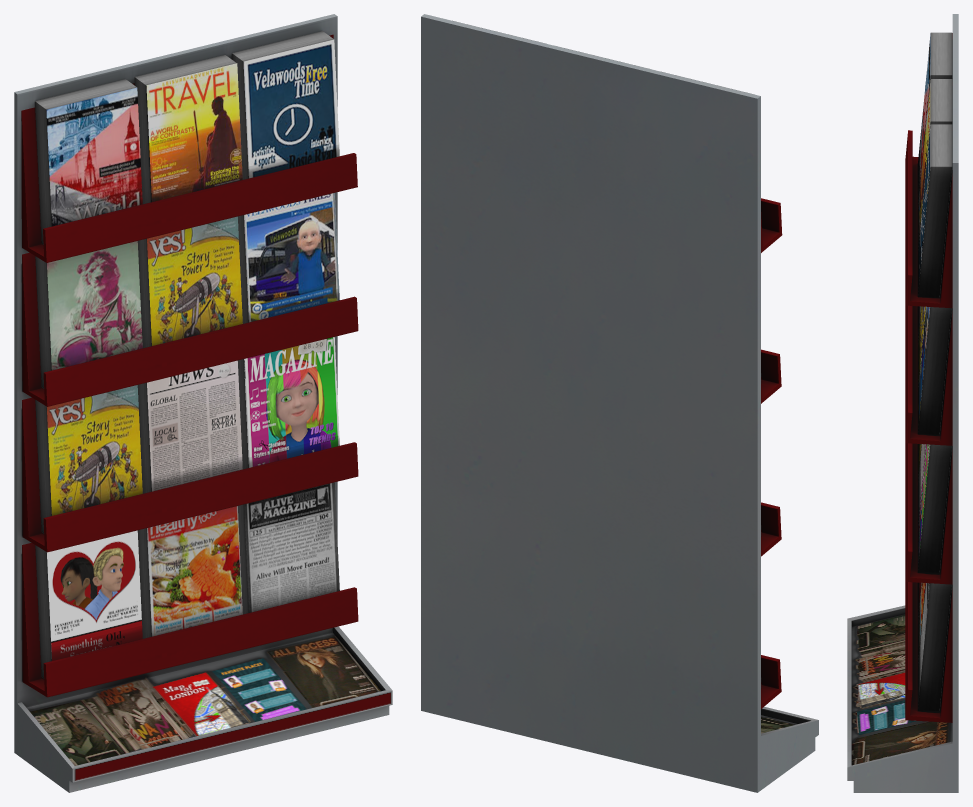
Rendered from Sun_0311_Magazine_rack_OPT.fbx.
3 renders of one model, left to right at view 1: azimuth 30°, elevation 25°; view 2: azimuth 150°, elevation 25°; view 3: azimuth 270°, elevation 25°, orthographic. The views are drawn at different scales.
Visible parts, largest first — view 1: Sun_0311_Magazine_rack; view 2: Sun_0311_Magazine_rack; view 3: Sun_0311_Magazine_rack.
Boxes of the visible parts, x1=… form: Sun_0311_Magazine_rack: x1=14, y1=14, x2=392, y2=792; Sun_0311_Magazine_rack: x1=421, y1=14, x2=818, y2=792; Sun_0311_Magazine_rack: x1=847, y1=14, x2=958, y2=792.
Bounding box in the file's own units: 81.19 × 160 × 25.66.
